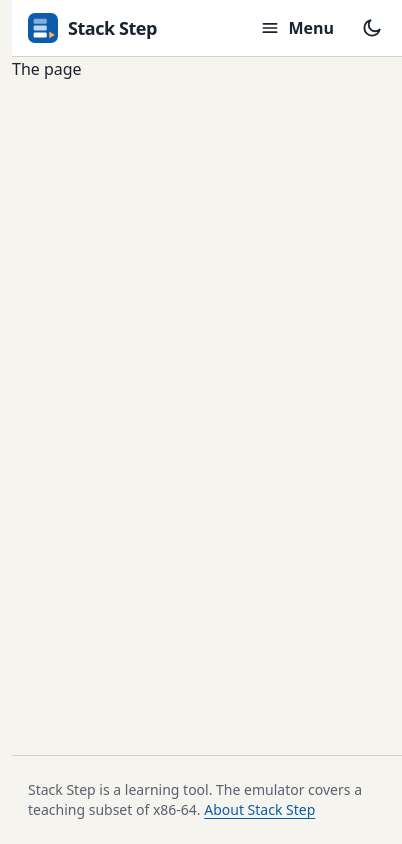
AppShell › closes the list of pages when the link of the current page is chosen
What coordinates should you click on to do the following:
click the button "Menu"
I would click on:
 (297, 28)
Its box is [248,6,346,50].
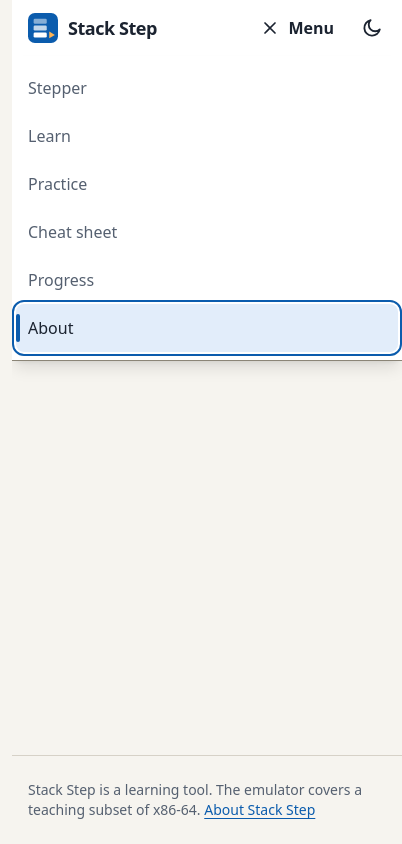
What coordinates should you click on to do the following:
click the link "About"
I would click on:
 (51, 328)
Its box is [16,304,398,352].
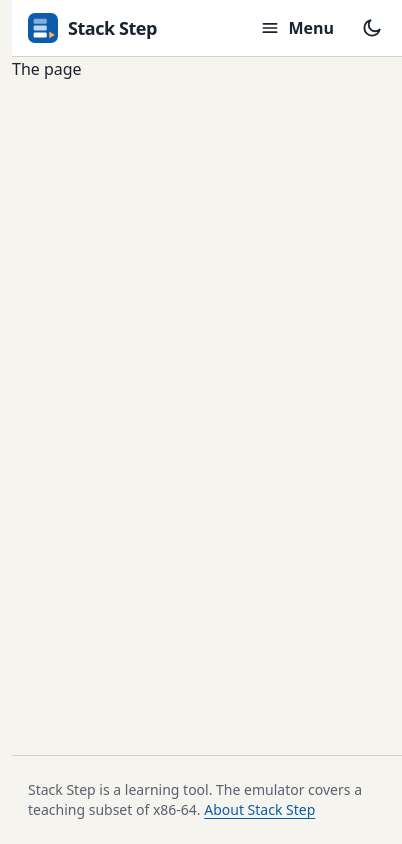
Now the button "Menu" is collapsed, box [248,6,346,50]
